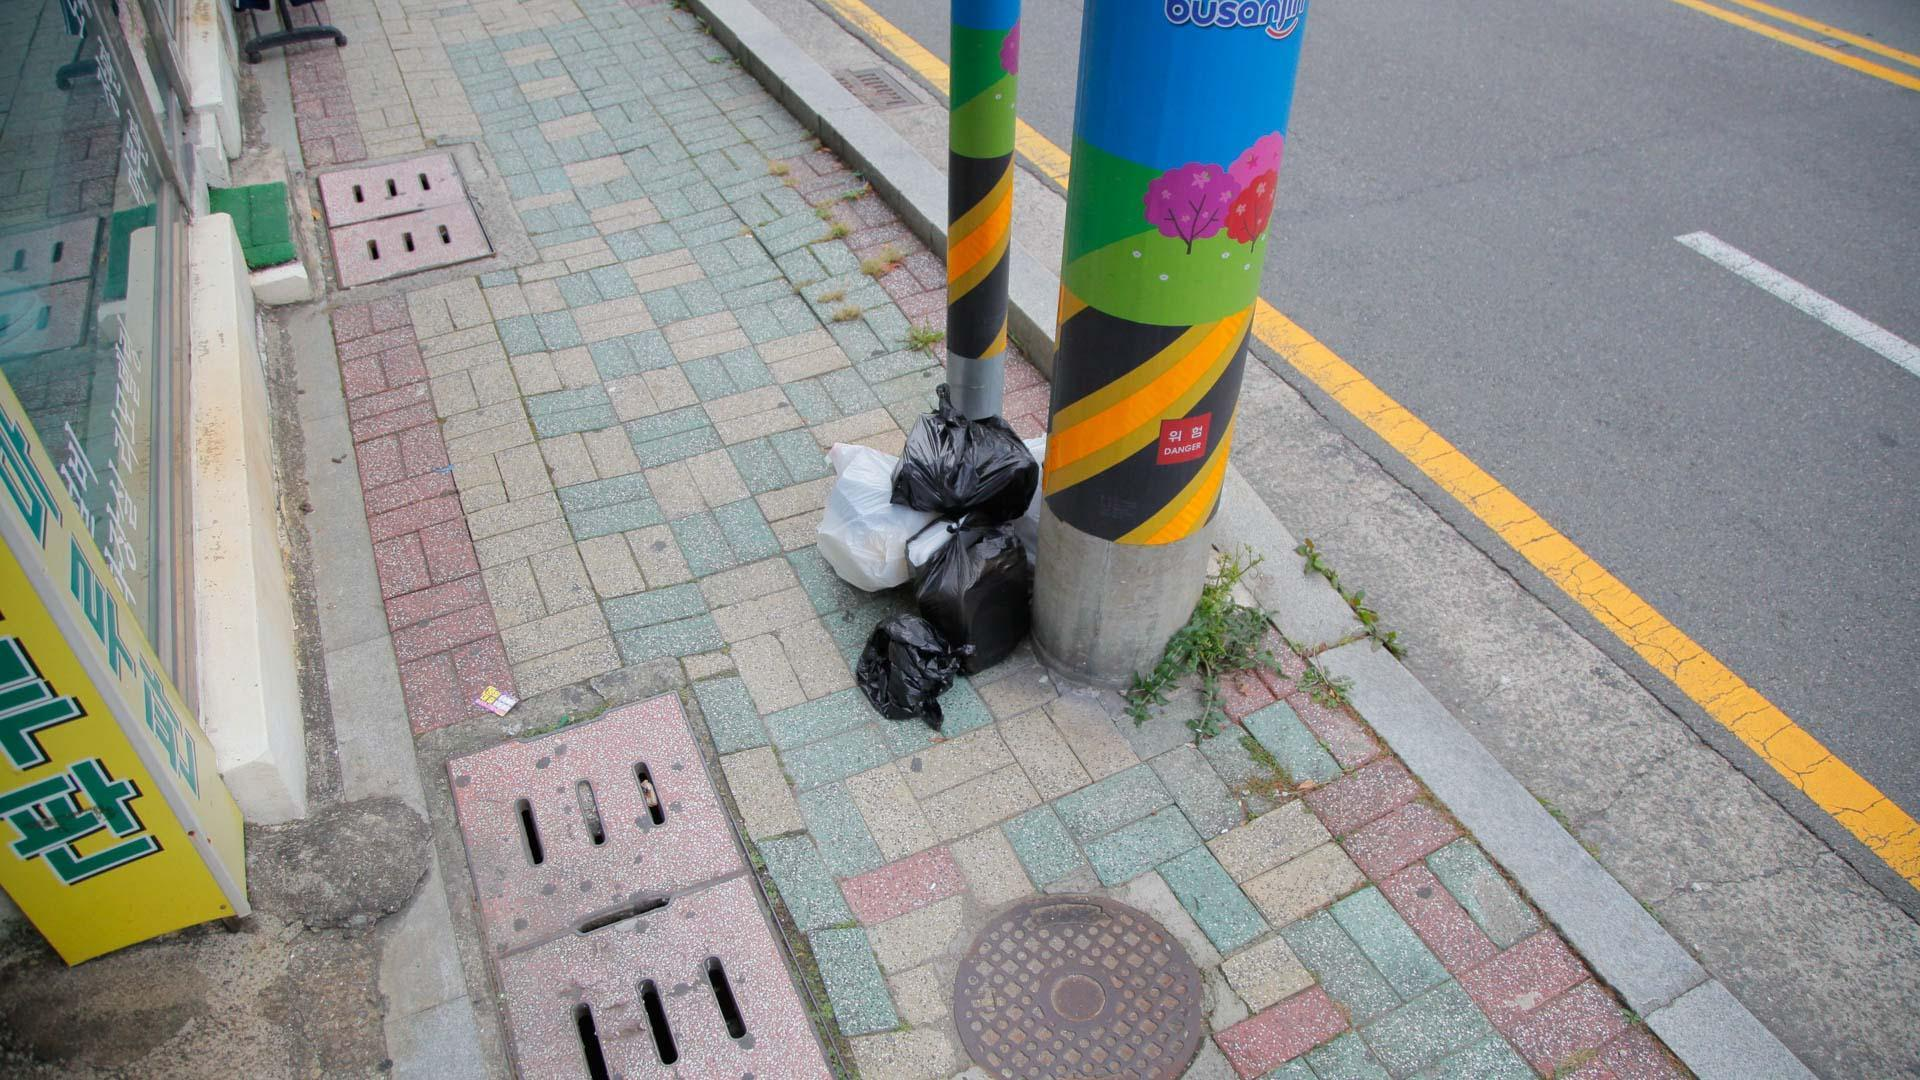black_bag: (880, 380, 1040, 527), (899, 510, 1035, 676), (844, 607, 980, 737)
white_bag: (806, 436, 959, 593)
